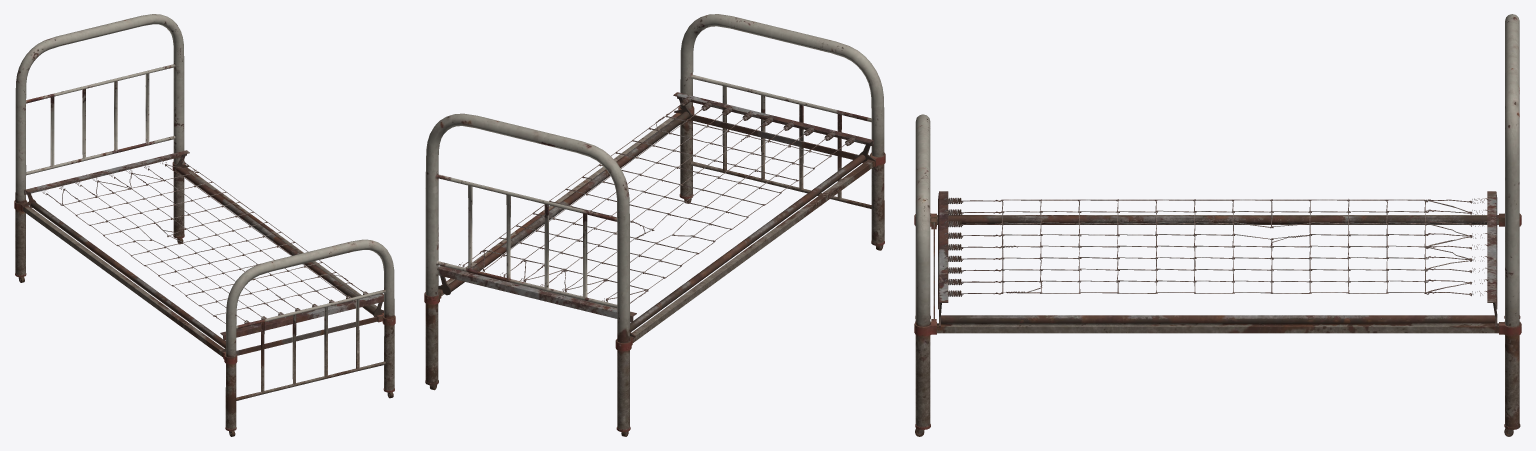
The model's file is old_bed_frame.glb.
3 views of the same model, side by side, from view 1: azimuth 30°, elevation 25°; view 2: azimuth 150°, elevation 25°; view 3: azimuth 270°, elevation 25° (orthographic). The views are drawn at different scales.
Visible parts, largest first — view 1: old_bed_frame; view 2: old_bed_frame; view 3: old_bed_frame.
Part boxes in pixels (<box>): old_bed_frame: <box>14,14,395,436</box>; old_bed_frame: <box>424,14,885,436</box>; old_bed_frame: <box>914,14,1521,436</box>.
Bounding box in the file's own units: 0.9047 × 1.2 × 2.
Materials: 1 (1 with a texture image).
